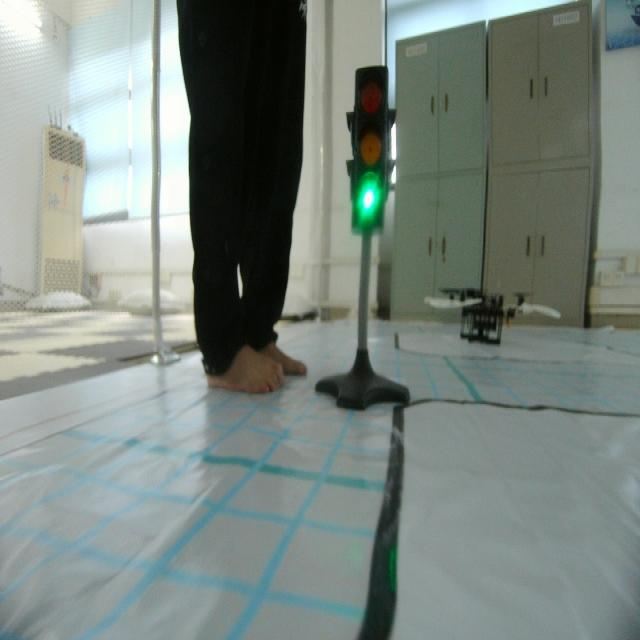green: (349, 61, 387, 234)
